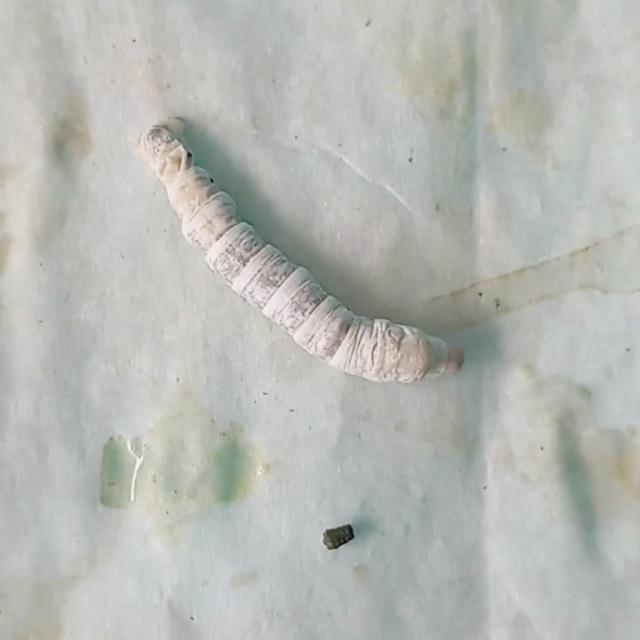Grasserie: (122, 105, 478, 417)
